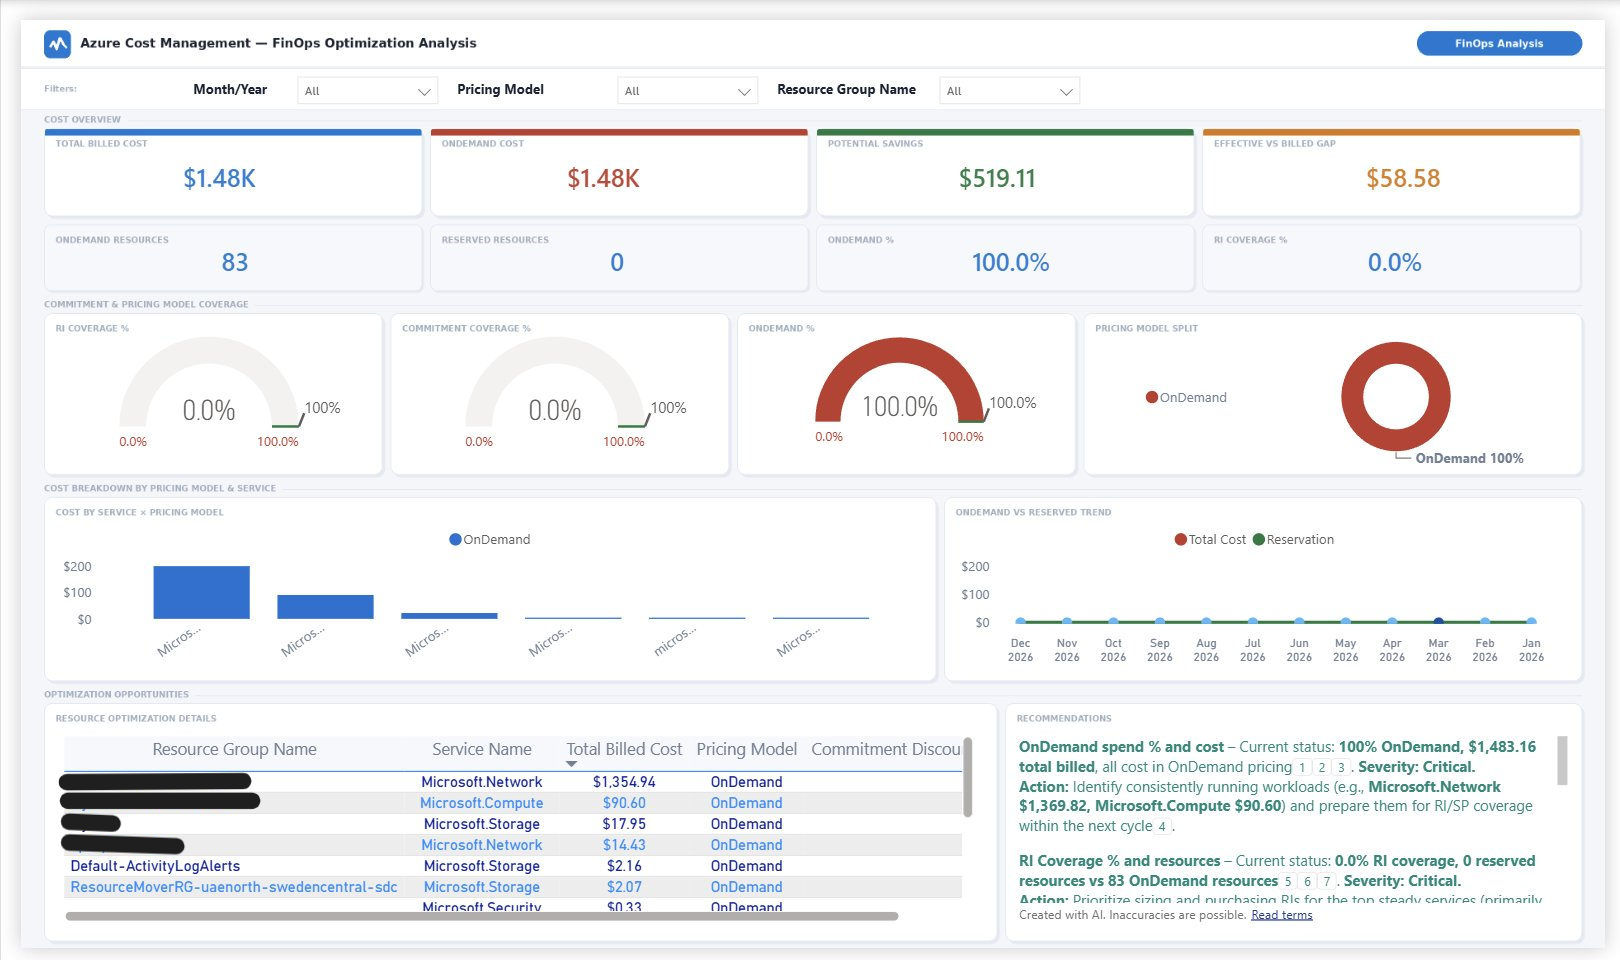

This screenshot's page, from the dashboard's own definition file:
{"tool":"powerbi","page":{"name":"FinOps Optimization Analysis","canvas":[1280,750],"ordinal":2},"visuals":[{"type":"slicer","fields":{"Values":["Date.Month Year"]},"box":[212.8,35,134.2,36.8],"z":0},{"type":"slicer","fields":{"Values":["cost-analysis-focus.x_PricingModel"]},"box":[472.6,35,134.2,36.8],"z":1000},{"type":"slicer","fields":{"Values":["cost-analysis-focus.ResourceGroupName"]},"box":[732.5,35,134.2,36.8],"z":2000},{"type":"textbox","box":[133.3,40.2,79.5,32.5],"z":3000},{"type":"textbox","box":[606.8,40.2,125.6,32.5],"z":4000},{"type":"textbox","box":[347,40.2,125.6,32.5],"z":5000},{"type":"cardVisual","fields":{"Data":["_Measures.FOCUS Total Billed Cost"]},"box":[70.7,95.5,178.6,60.1],"z":6000},{"type":"cardVisual","fields":{"Data":["_Measures.FOCUS OnDemand Cost"]},"box":[381.9,95.5,178.6,60.1],"z":7000},{"type":"cardVisual","fields":{"Data":["_Measures.FOCUS Potential Savings USD"]},"box":[700.1,95.5,178.6,60.1],"z":8000},{"type":"cardVisual","fields":{"Data":["_Measures.FOCUS Effective vs Billed Gap"]},"box":[1027.2,95.5,178.6,60.1],"z":9000},{"type":"cardVisual","fields":{"Data":["_Measures.FOCUS OnDemand Resources"]},"box":[84,164,178,60],"z":10000},{"type":"cardVisual","fields":{"Data":["_Measures.FOCUS Reserved Resources"]},"box":[392,164,178,60],"z":11000},{"type":"cardVisual","fields":{"Data":["_Measures.FOCUS OnDemand %"]},"box":[711,164,178,60],"z":12000},{"type":"cardVisual","fields":{"Data":["_Measures.FOCUS RI Coverage %"]},"box":[1021,164,178,60],"z":13000},{"type":"gauge","fields":{"Y":["_Measures.FOCUS RI Coverage %"],"TargetValue":["_Measures.Tagging Target"]},"box":[74.3,244,194.5,120.2],"z":14000},{"type":"gauge","fields":{"Y":["_Measures.FOCUS Commitment Coverage %"],"TargetValue":["_Measures.Tagging Target"]},"box":[353.6,244,194.5,120.2],"z":15000},{"type":"gauge","fields":{"Y":["_Measures.FOCUS OnDemand %"],"MinValue":["_Measures.OnDemand Target"]},"box":[636.5,242.2,194.5,120.2],"z":16000},{"type":"donutChart","fields":{"Category":["cost-analysis-focus.x_PricingModel"],"Y":["_Measures.FOCUS Total Billed Cost"]},"box":[903.4,242.2,339.4,123.8],"z":17000},{"type":"clusteredColumnChart","fields":{"Y":["_Measures.FOCUS Total Billed Cost"],"Category":["cost-analysis-focus.ServiceName"],"Series":["cost-analysis-focus.x_PricingModel"]},"box":[28.3,401.3,703.6,127.3],"z":18000},{"type":"lineChart","fields":{"Category":["Date.Month Year"],"Y":["_Measures.FOCUS Total Billed Cost","_Measures.FOCUS Reservation Cost"]},"box":[754.9,401.3,488,127.3],"z":19000},{"type":"tableEx","fields":{"Values":["cost-analysis-focus.ResourceGroupName","cost-analysis-focus.ServiceName","_Measures.FOCUS Total Billed Cost","cost-analysis-focus.x_PricingModel","cost-analysis-focus.CommitmentDiscountName"]},"box":[28.6,574.3,745.7,160],"z":20000},{"type":"aiNarratives","box":[801.4,574.3,452.9,160],"z":21000}]}

Visuals, with their boxes in screenshot pixels (x1, y1, x2, y2), scaled from the page's 1280x750 canvas onto the 1620x960 screenshot:
slicer - Date.Month Year: <bbox>269, 45, 439, 92</bbox>
slicer - cost-analysis-focus.x_PricingModel: <bbox>598, 45, 768, 92</bbox>
slicer - cost-analysis-focus.ResourceGroupName: <bbox>927, 45, 1097, 92</bbox>
textbox: <bbox>169, 51, 269, 93</bbox>
textbox: <bbox>768, 51, 927, 93</bbox>
textbox: <bbox>439, 51, 598, 93</bbox>
cardVisual - _Measures.FOCUS Total Billed Cost: <bbox>89, 122, 316, 199</bbox>
cardVisual - _Measures.FOCUS OnDemand Cost: <bbox>483, 122, 709, 199</bbox>
cardVisual - _Measures.FOCUS Potential Savings USD: <bbox>886, 122, 1112, 199</bbox>
cardVisual - _Measures.FOCUS Effective vs Billed Gap: <bbox>1300, 122, 1526, 199</bbox>
cardVisual - _Measures.FOCUS OnDemand Resources: <bbox>106, 210, 332, 287</bbox>
cardVisual - _Measures.FOCUS Reserved Resources: <bbox>496, 210, 721, 287</bbox>
cardVisual - _Measures.FOCUS OnDemand %: <bbox>900, 210, 1125, 287</bbox>
cardVisual - _Measures.FOCUS RI Coverage %: <bbox>1292, 210, 1517, 287</bbox>
gauge - _Measures.FOCUS RI Coverage % x _Measures.Tagging Target: <bbox>94, 312, 340, 466</bbox>
gauge - _Measures.FOCUS Commitment Coverage % x _Measures.Tagging Target: <bbox>448, 312, 694, 466</bbox>
gauge - _Measures.FOCUS OnDemand % x _Measures.OnDemand Target: <bbox>806, 310, 1052, 464</bbox>
donutChart - cost-analysis-focus.x_PricingModel x _Measures.FOCUS Total Billed Cost: <bbox>1143, 310, 1573, 468</bbox>
clusteredColumnChart - _Measures.FOCUS Total Billed Cost x cost-analysis-focus.ServiceName: <bbox>36, 514, 926, 677</bbox>
lineChart - Date.Month Year x _Measures.FOCUS Total Billed Cost: <bbox>955, 514, 1573, 677</bbox>
tableEx - cost-analysis-focus.ResourceGroupName x cost-analysis-focus.ServiceName: <bbox>36, 735, 980, 940</bbox>
aiNarratives: <bbox>1014, 735, 1587, 940</bbox>
